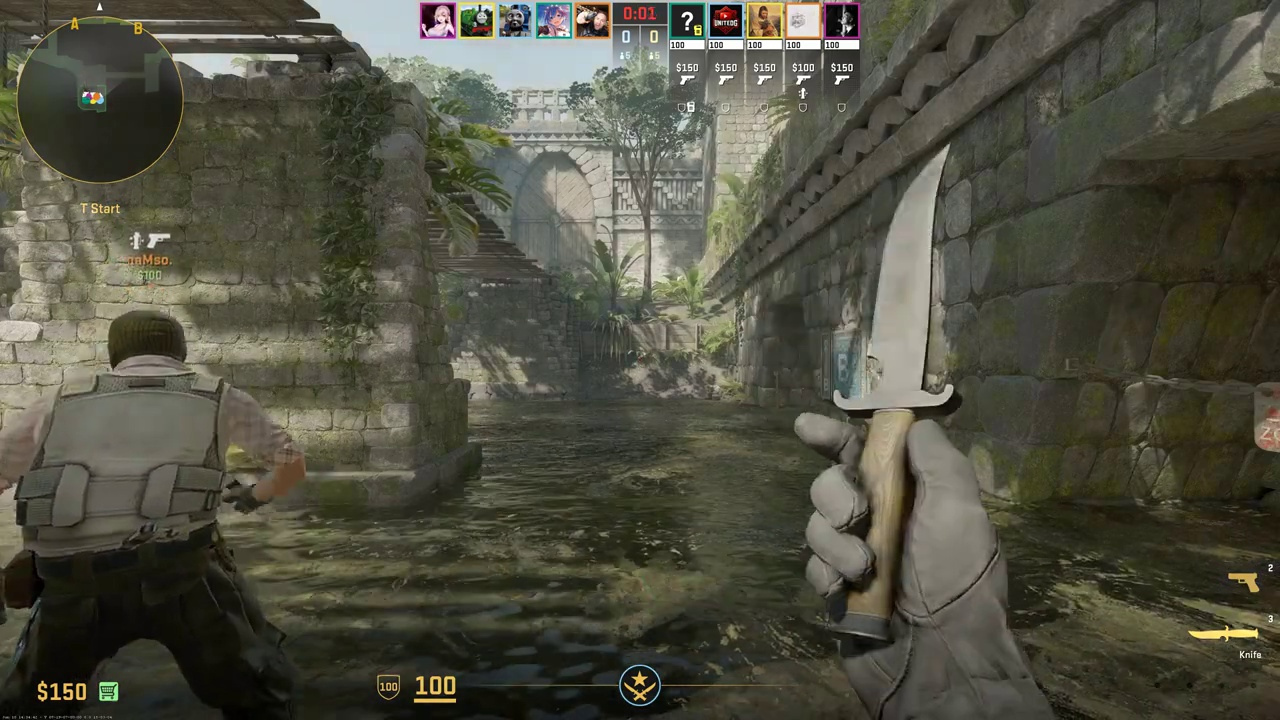Terrorist: (8, 312, 272, 713)
